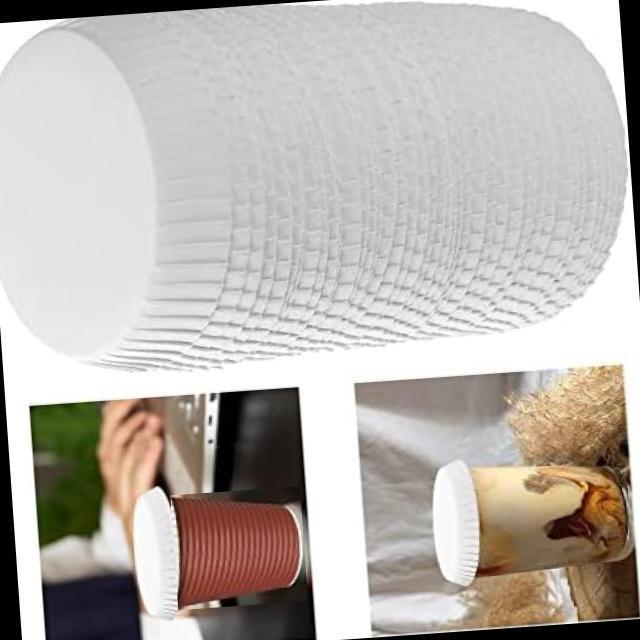Cup: (466, 453, 634, 578), (170, 484, 308, 608)
